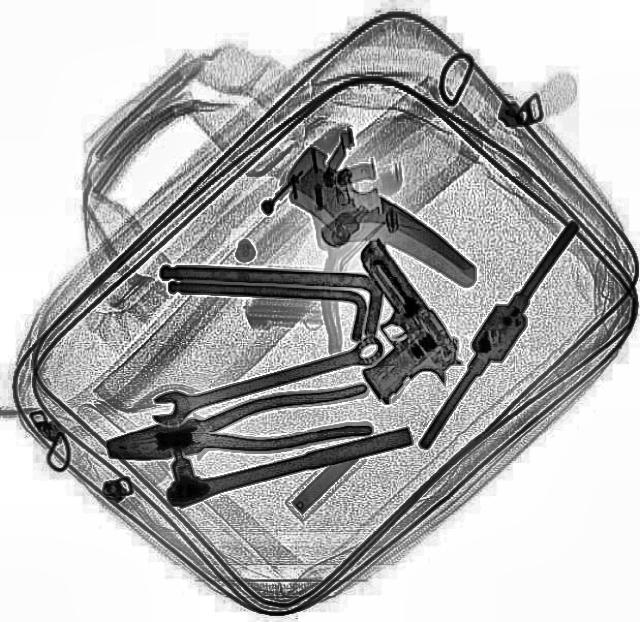Gun: (293, 234, 475, 416)
Pliers: (100, 380, 374, 474)
Wrench: (144, 330, 386, 430)
